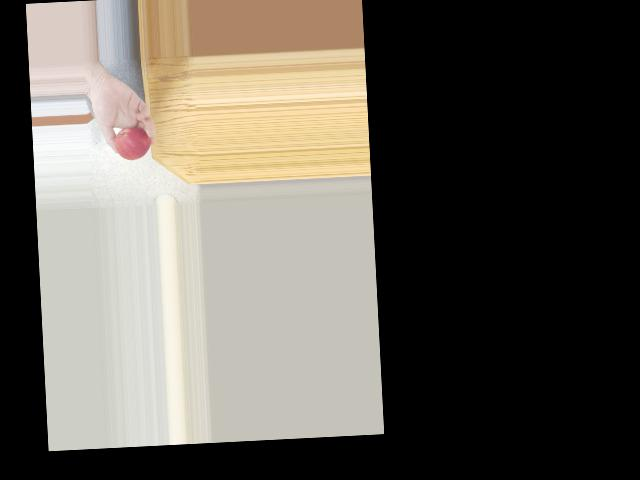apple: (112, 125, 152, 162)
